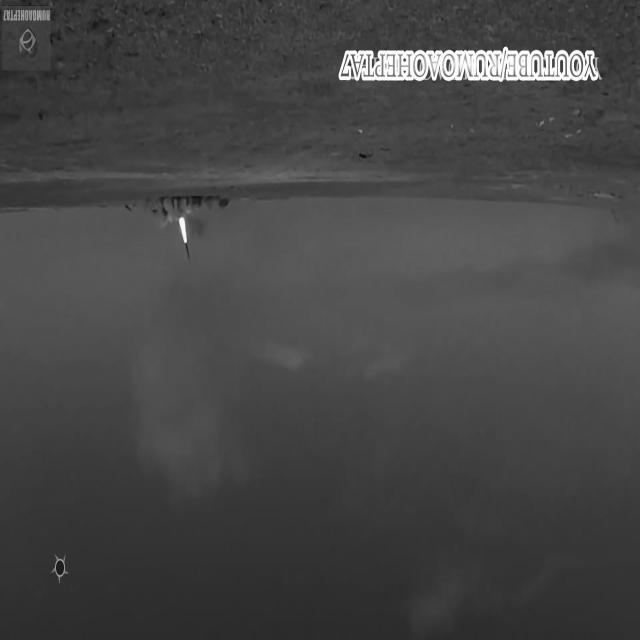missile: (183, 235, 194, 275)
